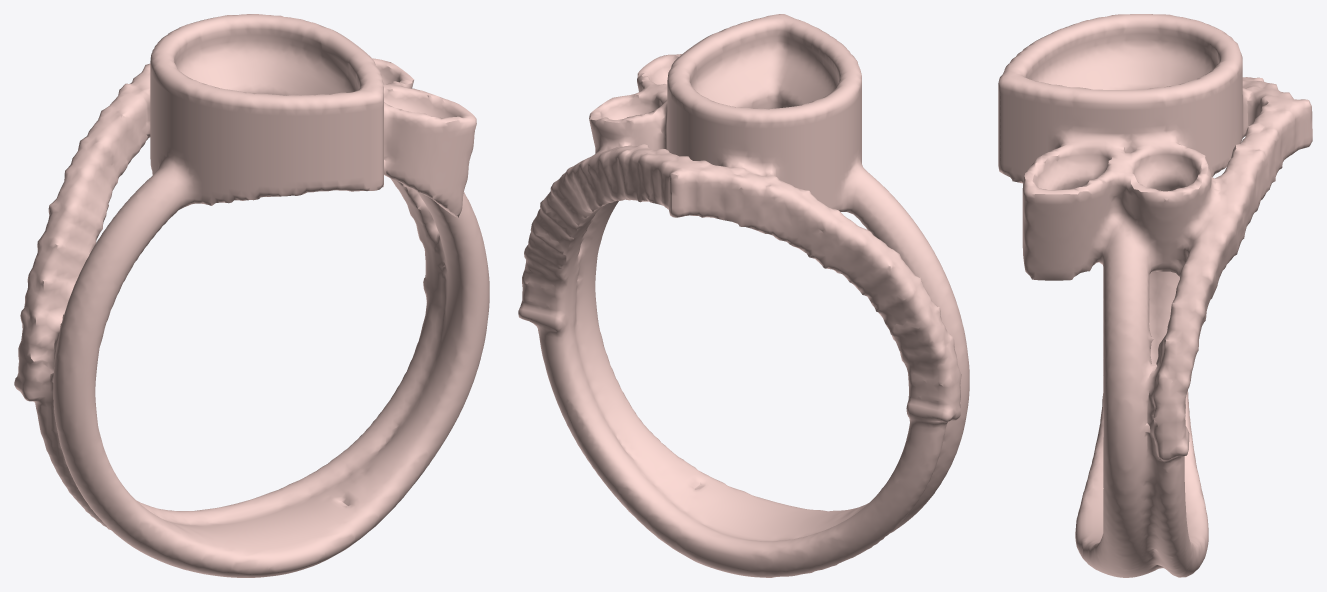
The picture shows the model from 3 angles, left to right: view 1: azimuth 30°, elevation 25°; view 2: azimuth 150°, elevation 25°; view 3: azimuth 270°, elevation 25°; orthographic projection. The views are drawn at different scales.
Parts seen in each view (by area): view 1: split_parent_0; view 2: split_parent_0; view 3: split_parent_0.
Boxes of the visible parts, x1,y1,x2,y2 form: split_parent_0: [14, 14, 489, 577]; split_parent_0: [518, 14, 969, 577]; split_parent_0: [998, 14, 1312, 577].
Size of the model in its own units: 0.9395 by 1 by 0.5723.
